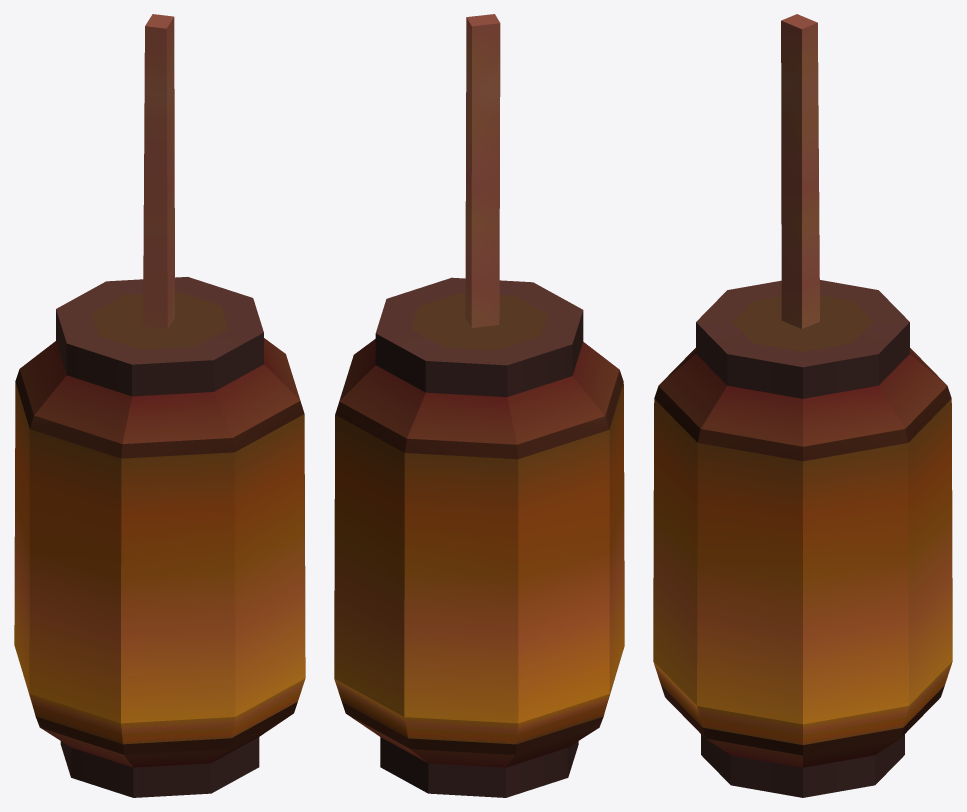
Rendered from building_zawudui_59.FBX.
3 views of the same model, side by side, from view 1: azimuth 30°, elevation 25°; view 2: azimuth 150°, elevation 25°; view 3: azimuth 270°, elevation 25° (orthographic).
Visible parts, largest first — view 1: building_zawudui_59; view 2: building_zawudui_59; view 3: building_zawudui_59.
Part boxes in pixels (x1,y1,x2,y2): building_zawudui_59: (14,14,305,797); building_zawudui_59: (334,14,624,797); building_zawudui_59: (653,14,952,797).
Size of the model in its own units: 36.75 by 99.07 by 36.74.
